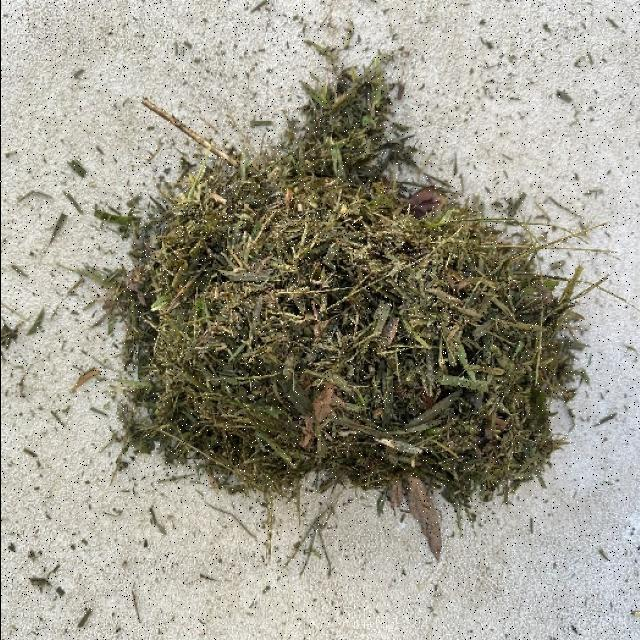organik: (110, 152, 576, 502)
